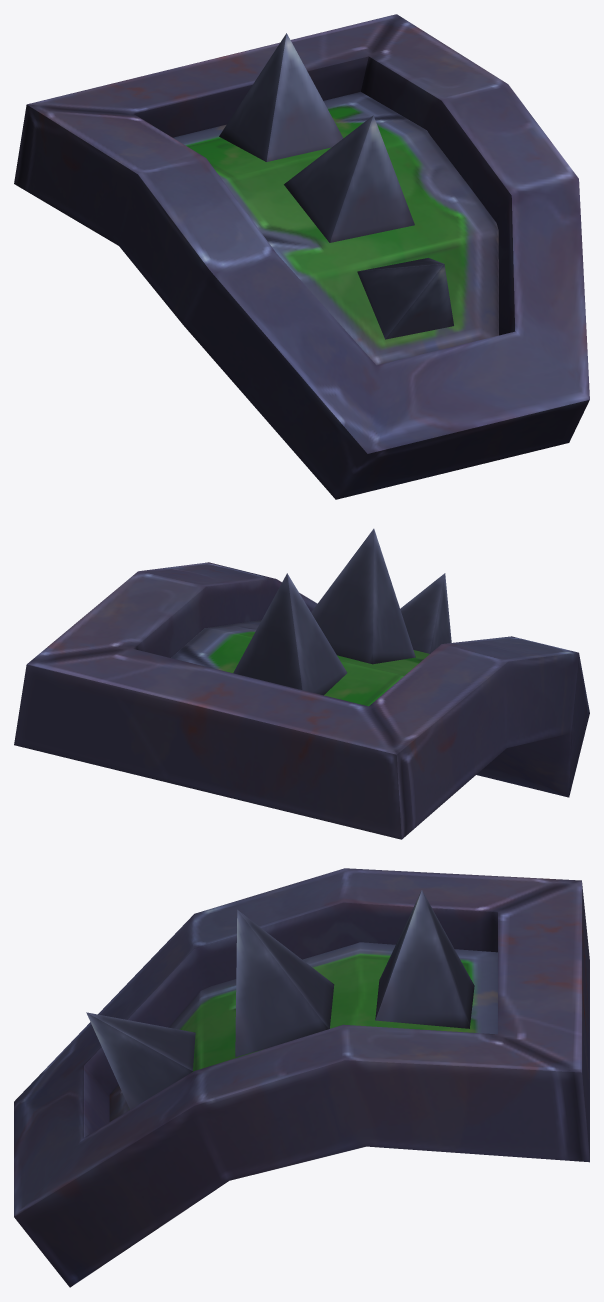
Rendered from armor_green_02.fbx.
3 views of the same model, one above another, from view 1: azimuth 30°, elevation 25°; view 2: azimuth 150°, elevation 25°; view 3: azimuth 270°, elevation 25° (orthographic). The views are drawn at different scales.
Visible parts, largest first — view 1: armor_green_02; view 2: armor_green_02; view 3: armor_green_02.
Boxes of the visible parts, x1,y1,x2,y2 form: armor_green_02: [14, 14, 589, 499]; armor_green_02: [14, 528, 589, 839]; armor_green_02: [14, 868, 589, 1287].
Size of the model in its own units: 0.5827 by 0.4557 by 0.7051.
